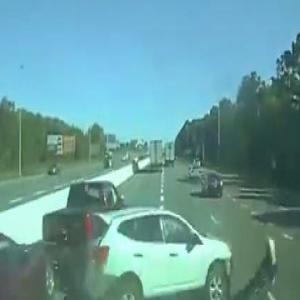negligible: (39, 170, 235, 300)
